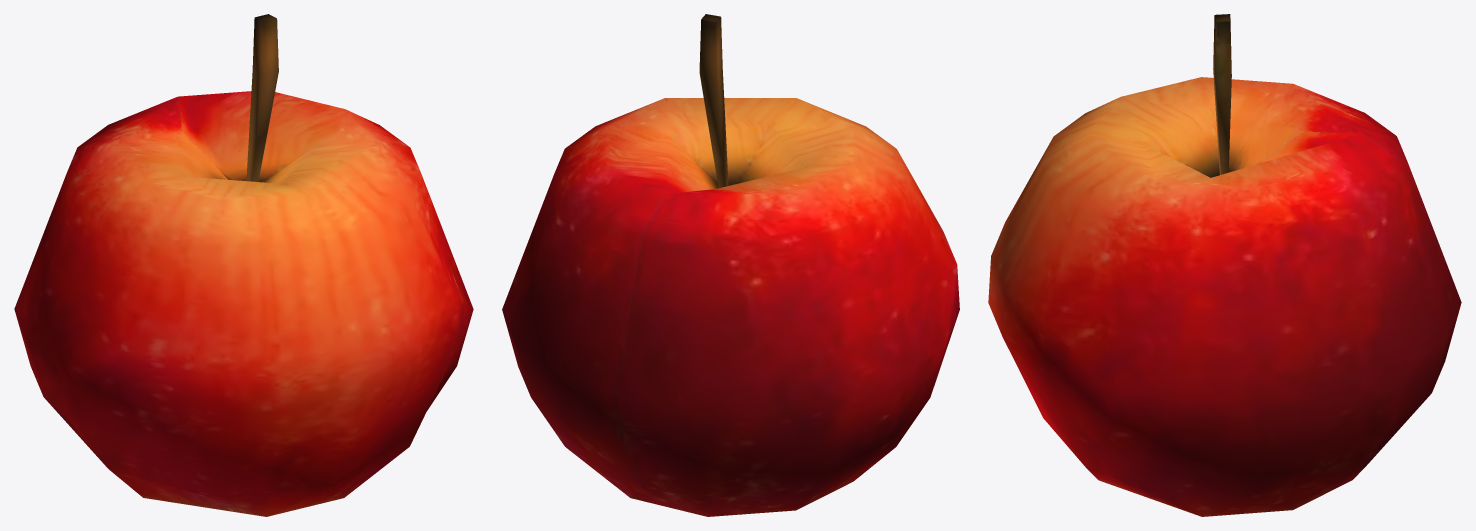
File: Apple.glb
3 renders of one model, left to right at view 1: azimuth 30°, elevation 25°; view 2: azimuth 150°, elevation 25°; view 3: azimuth 270°, elevation 25°, orthographic. The views are drawn at different scales.
Visible parts, largest first — view 1: Apple; view 2: Apple; view 3: Apple.
Boxes of the visible parts, bbox=[...] form: Apple: bbox=[14, 14, 473, 516]; Apple: bbox=[502, 14, 959, 516]; Apple: bbox=[988, 14, 1461, 516].
Size of the model in its own units: 0.0071 by 0.0079 by 0.00721.
1 material, 1 textured.
